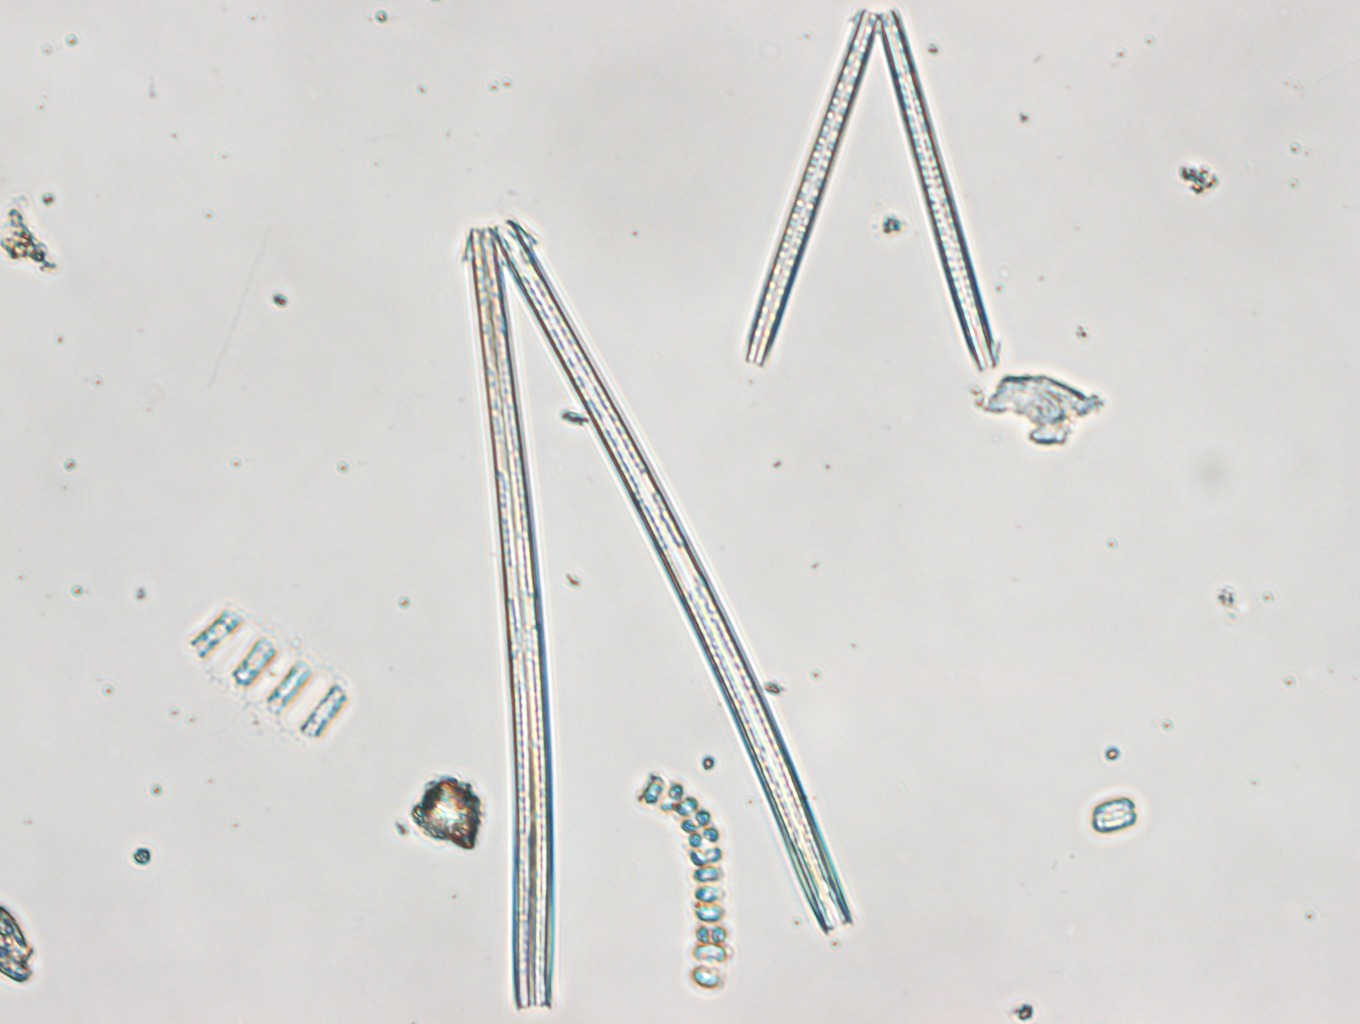skeletonema: (635, 774, 732, 991)
thalassionema frauenfeldii: (466, 221, 855, 1010), (744, 6, 999, 374)
